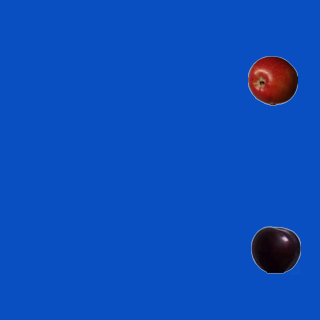Apple Braeburn: (247, 55, 297, 105)
Cherry Wax Black: (250, 224, 300, 274)
